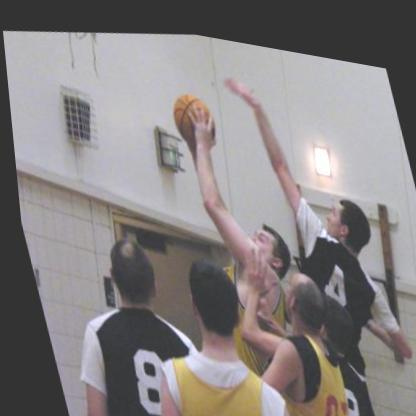basketball: (163, 81, 219, 148)
